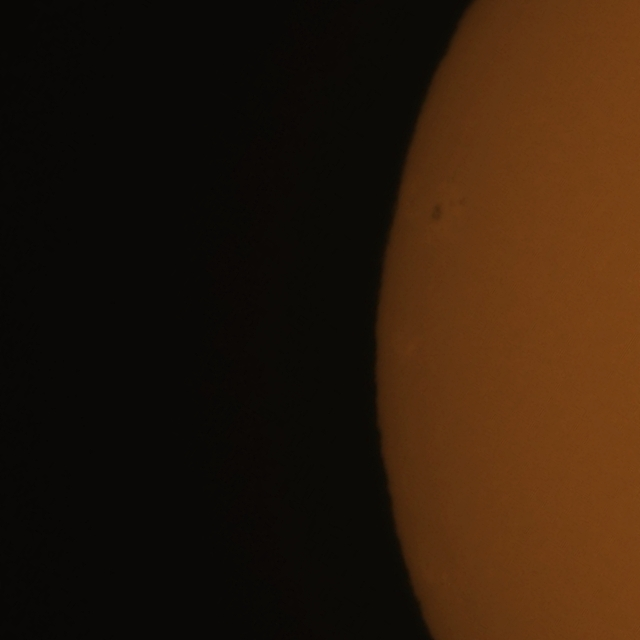sunspot: (421, 189, 458, 237)
